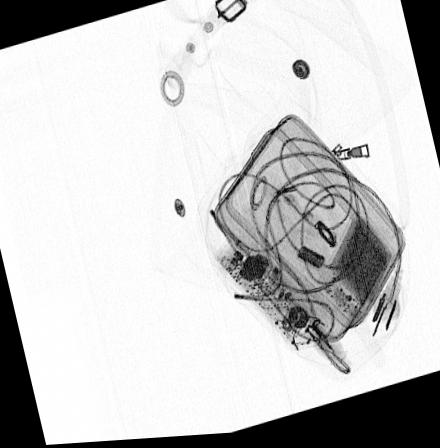Powerbank: (315, 216, 393, 331)
